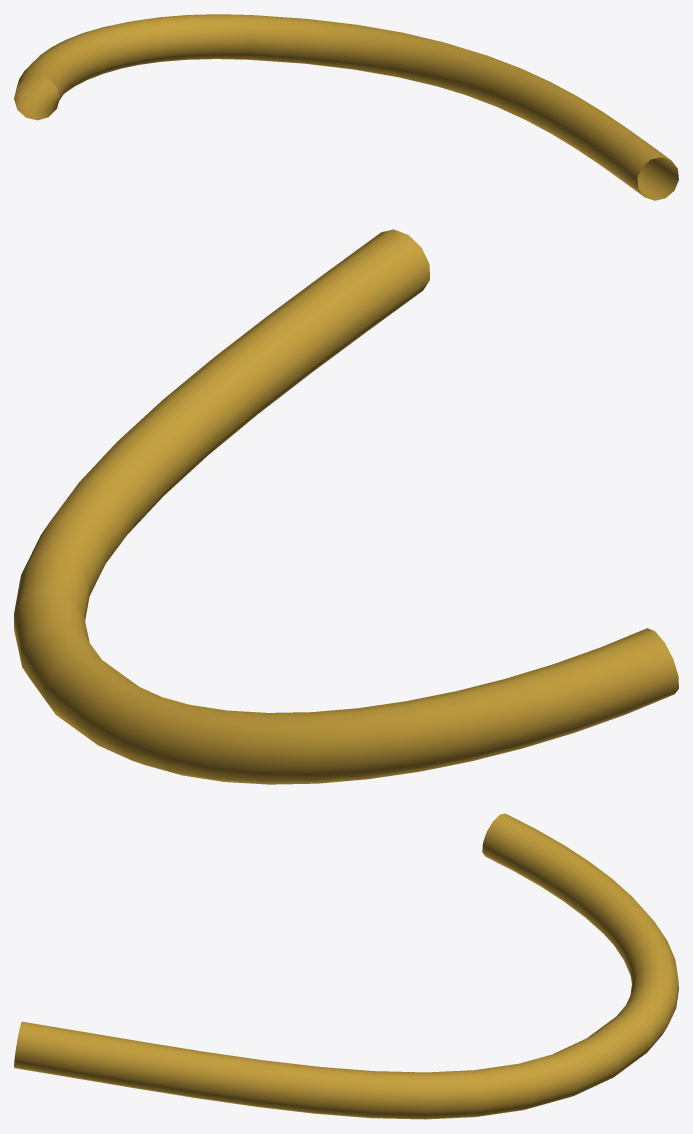
The picture shows the model from 3 angles, top to bottom: view 1: azimuth 30°, elevation 25°; view 2: azimuth 150°, elevation 25°; view 3: azimuth 270°, elevation 25°; orthographic projection. The views are drawn at different scales.
Visible parts, largest first — view 1: 左侧正中神经与尺神经交通支; view 2: 左侧正中神经与尺神经交通支; view 3: 左侧正中神经与尺神经交通支.
Part boxes in pixels (box(x1,y1,x2,y2)): 左侧正中神经与尺神经交通支: box(14, 14, 678, 200); 左侧正中神经与尺神经交通支: box(14, 229, 678, 784); 左侧正中神经与尺神经交通支: box(14, 813, 678, 1119).
Bounding box in the file's own units: 0.0169 × 0.00352 × 0.0206.
